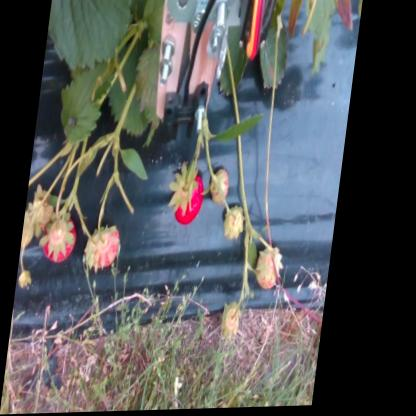ripe: (174, 167, 214, 227), (48, 212, 88, 269)
unripe: (91, 230, 126, 270), (261, 248, 292, 290), (227, 204, 254, 242), (214, 168, 237, 207), (228, 305, 250, 342)
